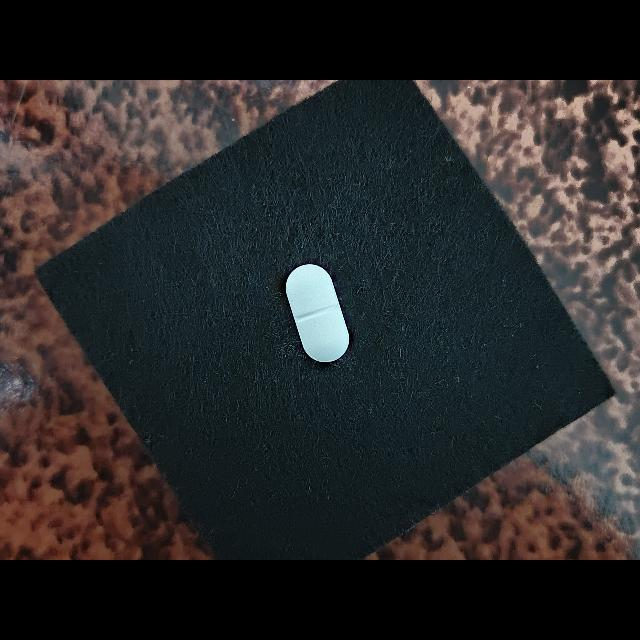Intact Pill: (286, 264, 349, 362)
